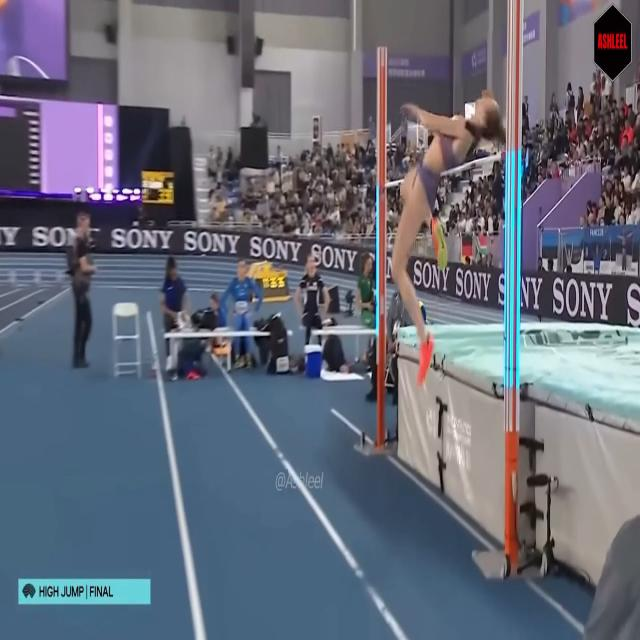jump: (392, 95, 511, 389)
